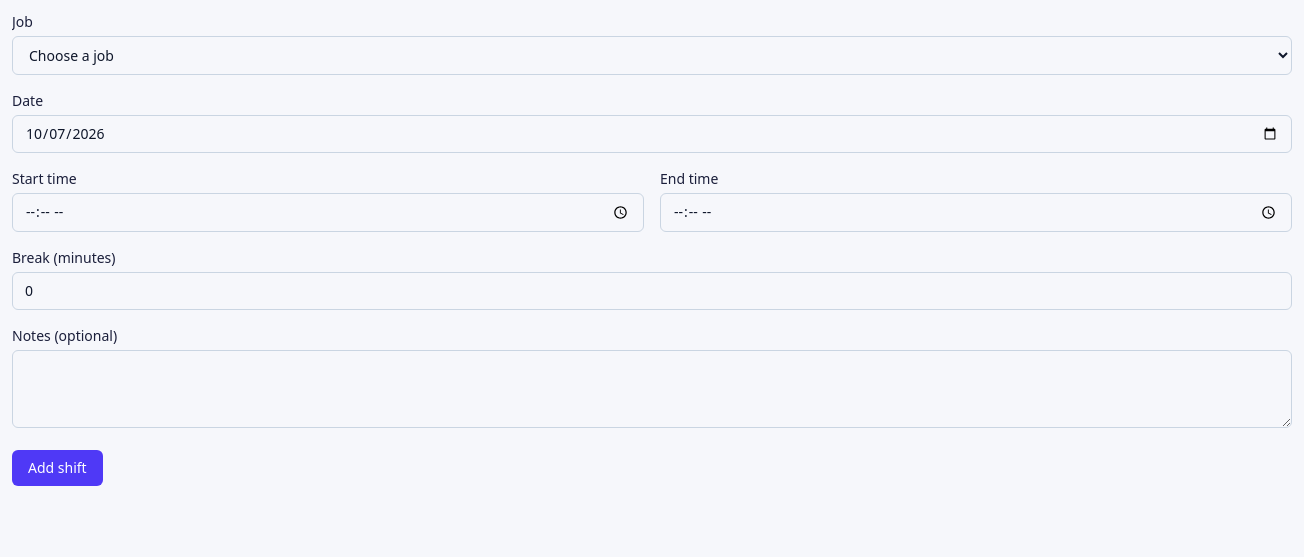
Test: ShiftForm › shows an error that belongs to no field at the top of the form
The width and height of the screenshot is (1304, 557).
Select "Warehouse" in the dropdown labelled "Job" at (652,56), box [12, 36, 1292, 75]
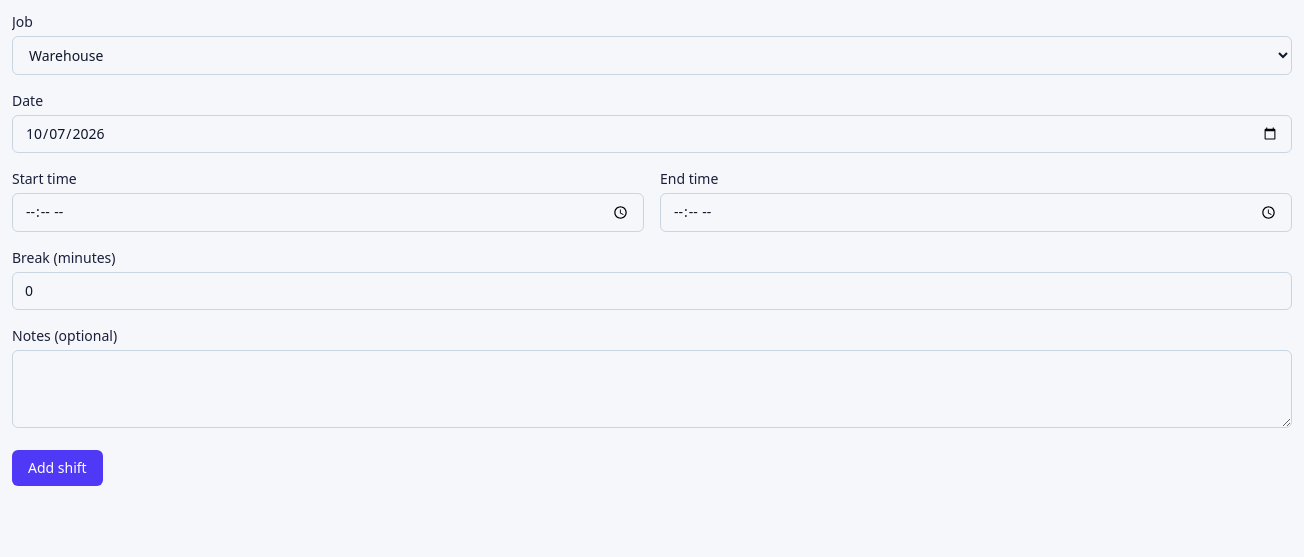
Type "09:00" into the time field labelled "Start time".
click(328, 212); type("09:00")  # box [12, 193, 644, 232]
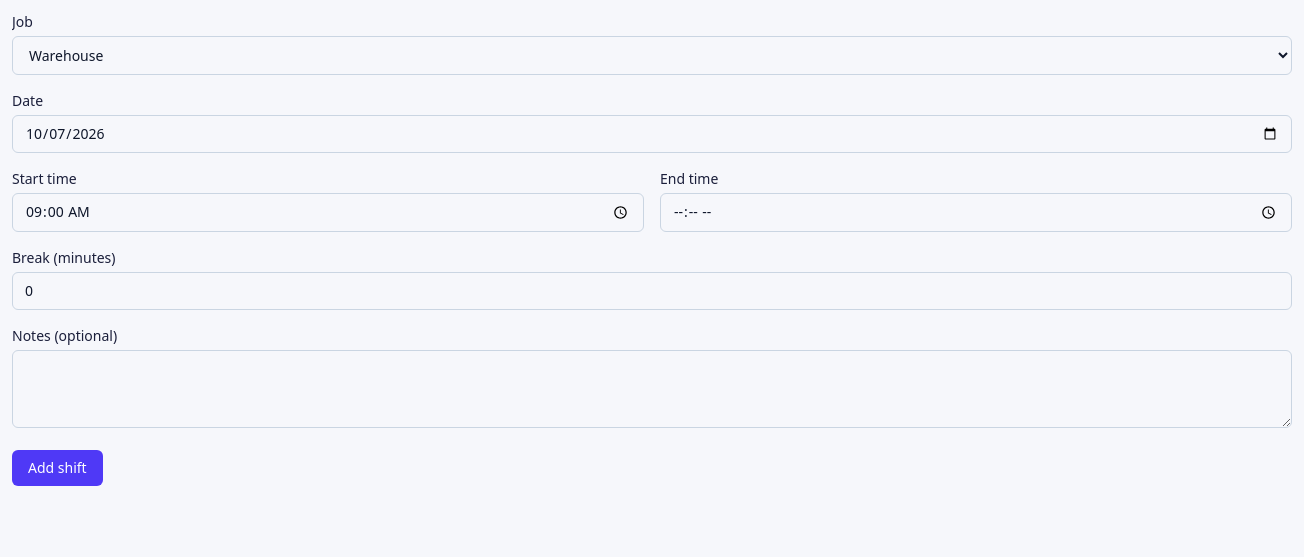
Type "17:00" into the time field labelled "End time".
click(976, 212); type("17:00")  # box [660, 193, 1292, 232]
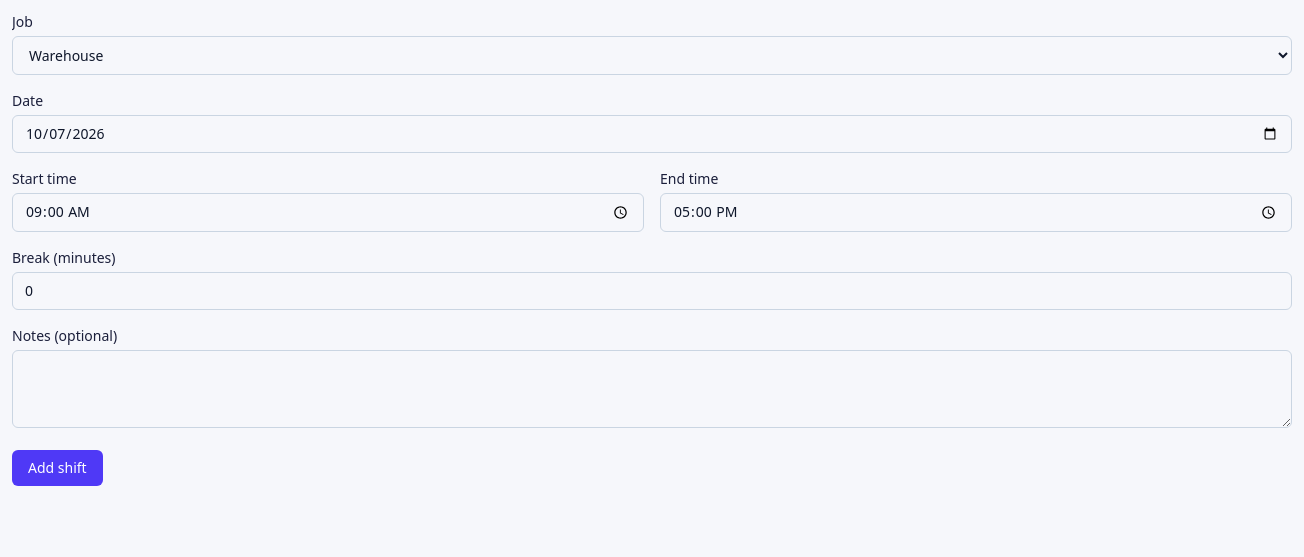
Click the button "Add shift".
click(57, 468)  # box [12, 450, 103, 486]
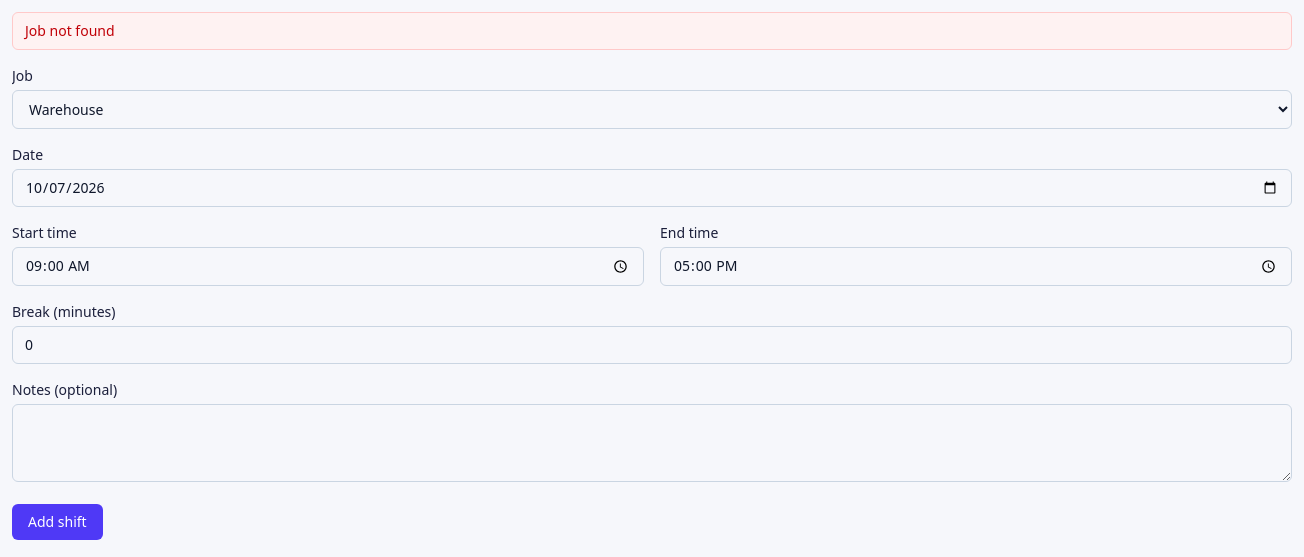
Check: the text "Job not found" is shown, box [25, 21, 115, 40]
